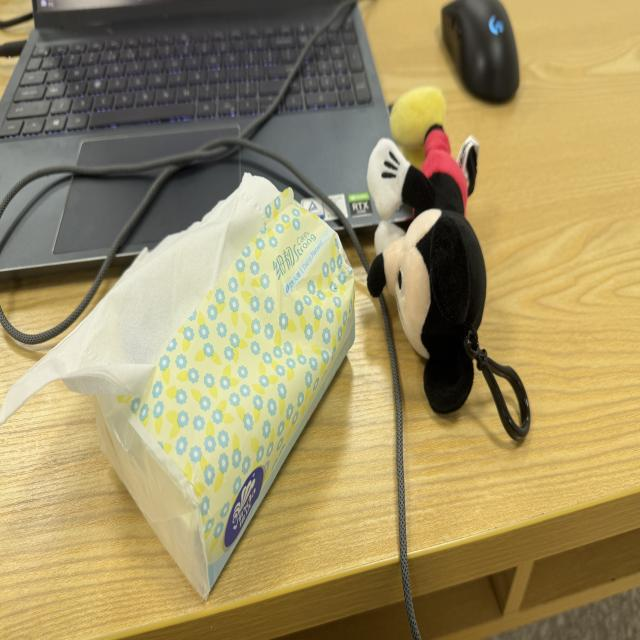mickey: (368, 88, 485, 413)
tissue: (0, 176, 354, 597), (97, 190, 354, 596), (0, 174, 278, 424)
